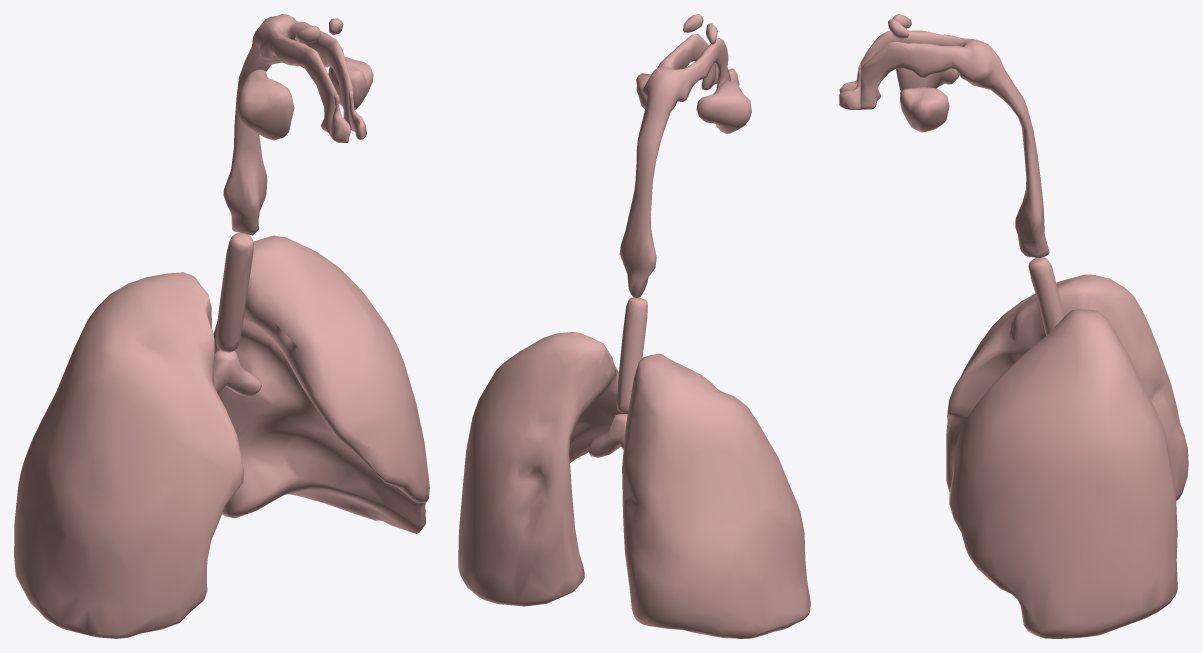
Rendered from pediatric_child_10y_male.respiratory.LOD1.glb.
The picture shows the model from 3 angles, left to right: view 1: azimuth 30°, elevation 25°; view 2: azimuth 150°, elevation 25°; view 3: azimuth 270°, elevation 25°; orthographic projection. The views are drawn at different scales.
Parts seen in each view (by area): view 1: PEDIATRIC.CHILD_10Y.MALE.RESPIRATORY.LUNG.R, PEDIATRIC.CHILD_10Y.MALE.RESPIRATORY.LUNG.L, PEDIATRIC.CHILD_10Y.MALE.RESPIRATORY.ET2, PEDIATRIC.CHILD_10Y.MALE.RESPIRATORY.TRACHEA, PEDIATRIC.CHILD_10Y.MALE.RESPIRATORY.BB1, PEDIATRIC.CHILD_10Y.MALE.RESPIRATORY.ET1; view 2: PEDIATRIC.CHILD_10Y.MALE.RESPIRATORY.LUNG.R, PEDIATRIC.CHILD_10Y.MALE.RESPIRATORY.LUNG.L, PEDIATRIC.CHILD_10Y.MALE.RESPIRATORY.ET2, PEDIATRIC.CHILD_10Y.MALE.RESPIRATORY.TRACHEA, PEDIATRIC.CHILD_10Y.MALE.RESPIRATORY.BB1; view 3: PEDIATRIC.CHILD_10Y.MALE.RESPIRATORY.LUNG.L, PEDIATRIC.CHILD_10Y.MALE.RESPIRATORY.LUNG.R, PEDIATRIC.CHILD_10Y.MALE.RESPIRATORY.ET2, PEDIATRIC.CHILD_10Y.MALE.RESPIRATORY.TRACHEA, PEDIATRIC.CHILD_10Y.MALE.RESPIRATORY.ET1.
Part boxes in pixels (x1,y1,x2,y2): PEDIATRIC.CHILD_10Y.MALE.RESPIRATORY.LUNG.R: (14, 272, 244, 638); PEDIATRIC.CHILD_10Y.MALE.RESPIRATORY.LUNG.L: (213, 235, 429, 533); PEDIATRIC.CHILD_10Y.MALE.RESPIRATORY.ET2: (223, 14, 373, 235); PEDIATRIC.CHILD_10Y.MALE.RESPIRATORY.TRACHEA: (216, 233, 253, 352); PEDIATRIC.CHILD_10Y.MALE.RESPIRATORY.BB1: (213, 350, 261, 396); PEDIATRIC.CHILD_10Y.MALE.RESPIRATORY.ET1: (329, 89, 366, 142); PEDIATRIC.CHILD_10Y.MALE.RESPIRATORY.LUNG.R: (622, 353, 810, 638); PEDIATRIC.CHILD_10Y.MALE.RESPIRATORY.LUNG.L: (458, 332, 627, 606); PEDIATRIC.CHILD_10Y.MALE.RESPIRATORY.ET2: (619, 14, 751, 298); PEDIATRIC.CHILD_10Y.MALE.RESPIRATORY.TRACHEA: (616, 297, 647, 412); PEDIATRIC.CHILD_10Y.MALE.RESPIRATORY.BB1: (588, 413, 627, 457); PEDIATRIC.CHILD_10Y.MALE.RESPIRATORY.LUNG.L: (949, 309, 1177, 638); PEDIATRIC.CHILD_10Y.MALE.RESPIRATORY.LUNG.R: (946, 274, 1188, 500); PEDIATRIC.CHILD_10Y.MALE.RESPIRATORY.ET2: (860, 14, 1049, 257); PEDIATRIC.CHILD_10Y.MALE.RESPIRATORY.TRACHEA: (1028, 257, 1064, 335); PEDIATRIC.CHILD_10Y.MALE.RESPIRATORY.ET1: (839, 63, 860, 109).
Size of the model in its own units: 0.1981 by 0.306 by 0.1761.
